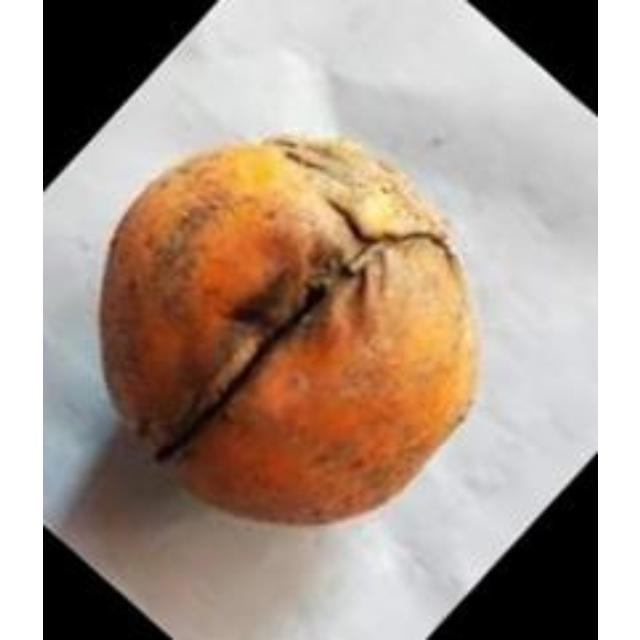damaged: (100, 135, 472, 520)
